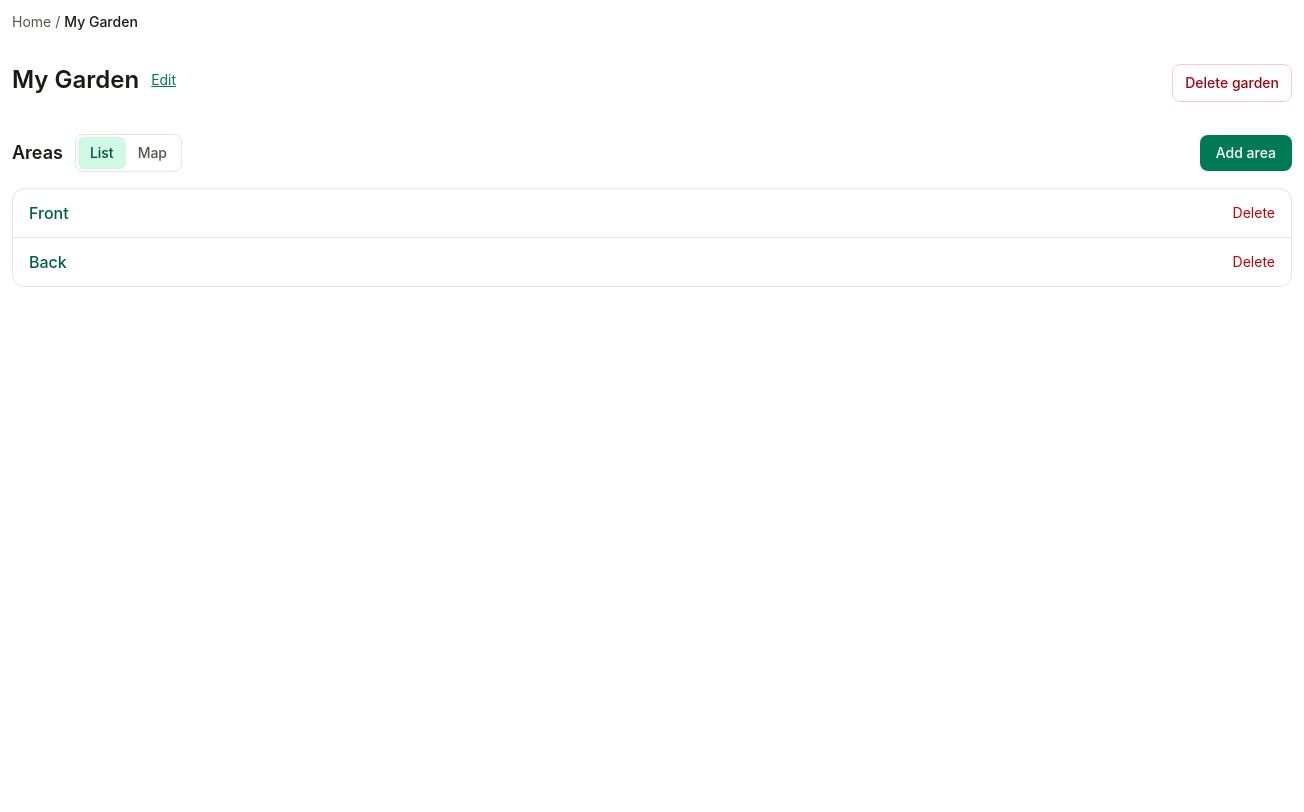
Test: GardenAreasPage areas view toggle › shows the list by default and switches to the overview map
expect the link "Front" is shown: met, box top-left (29, 201), bottom-right (69, 225)
Click the button with test id "areas-view-map": [152, 153] box top-left (126, 137), bottom-right (179, 169)
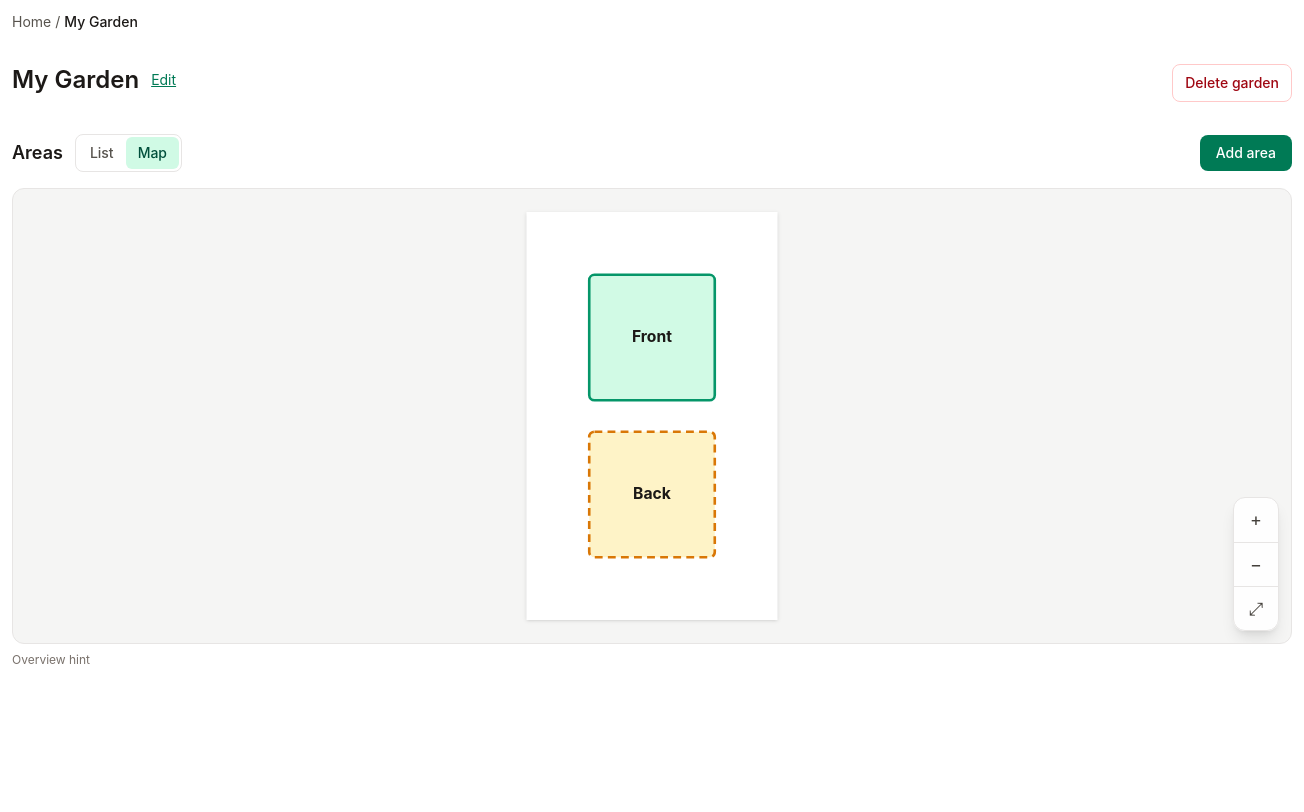
expect the element with test id "overview-tile-a1" is shown: met, box top-left (632, 327), bottom-right (672, 346)
expect the icon with test id "garden-overview-map" is shown: met, box top-left (526, 212), bottom-right (778, 620)
